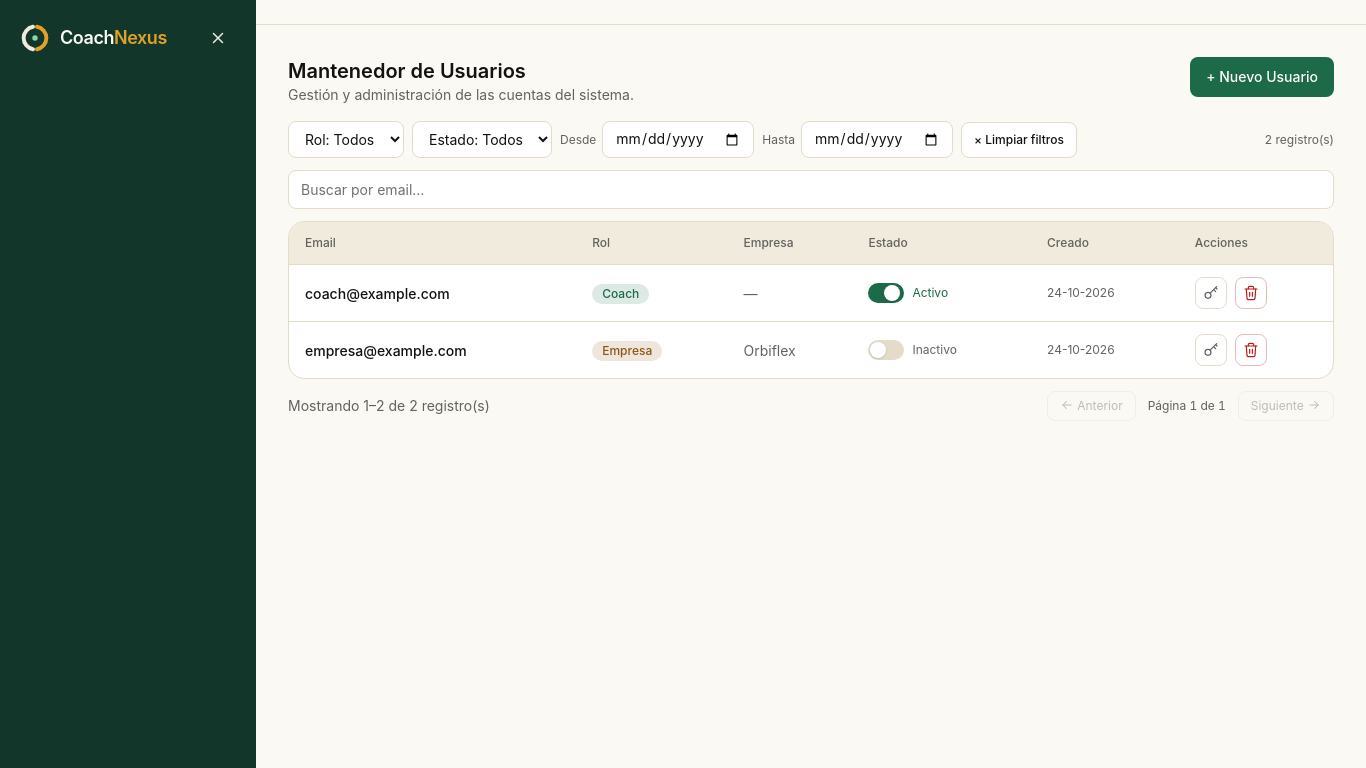
Scenario: UsuariosView › filters by search text
This screenshot has width=1366, height=768.
Step 1. Type "empresa@" into the search field with placeholder "Buscar por email…" → {"x": 811, "y": 190}, box left=288, top=170, right=1334, bottom=209
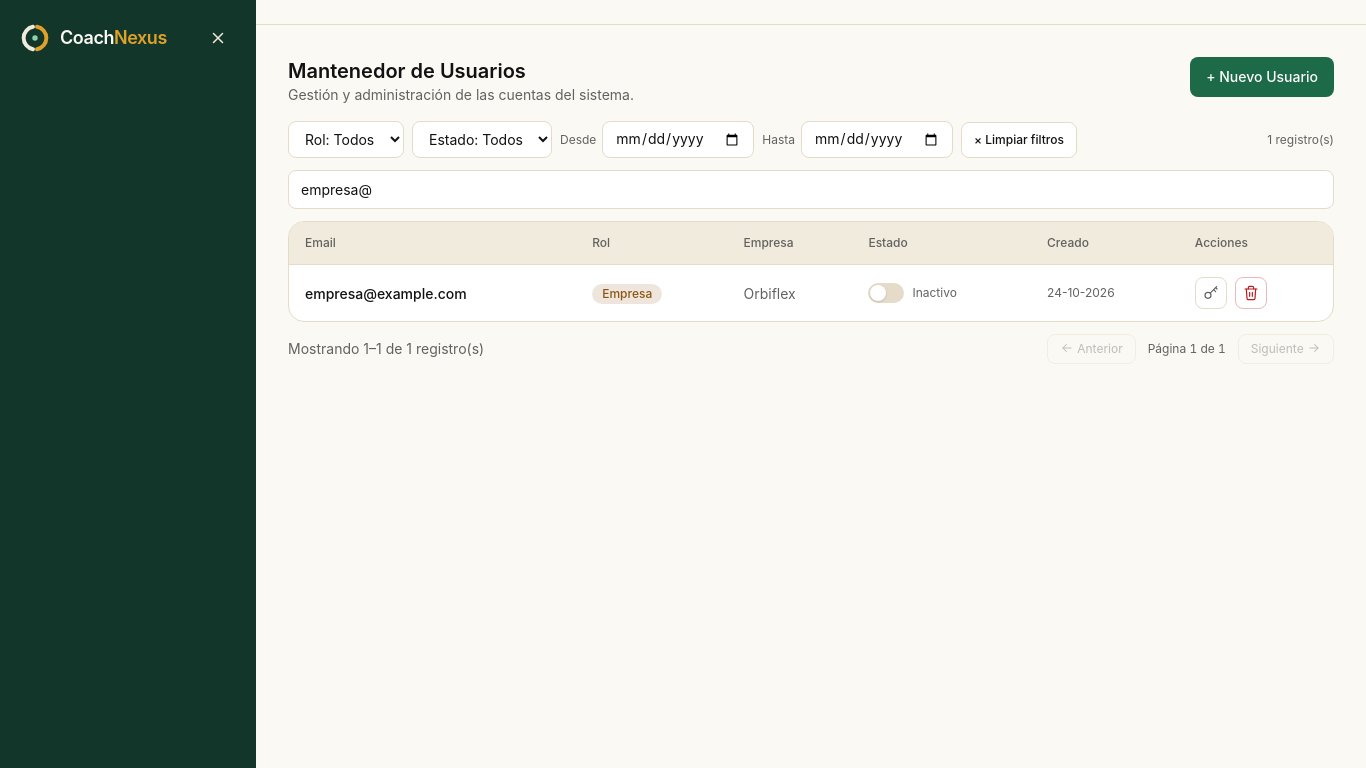
Expected: the text "empresa@example.com" is shown, left=289, top=264, right=576, bottom=321
Expected: the text "coach@example.com" is gone
